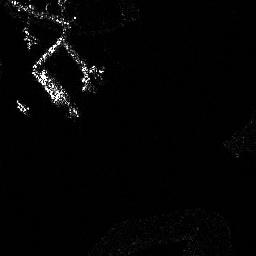ship: (39, 68, 79, 118), (81, 67, 106, 93), (14, 98, 32, 115)
